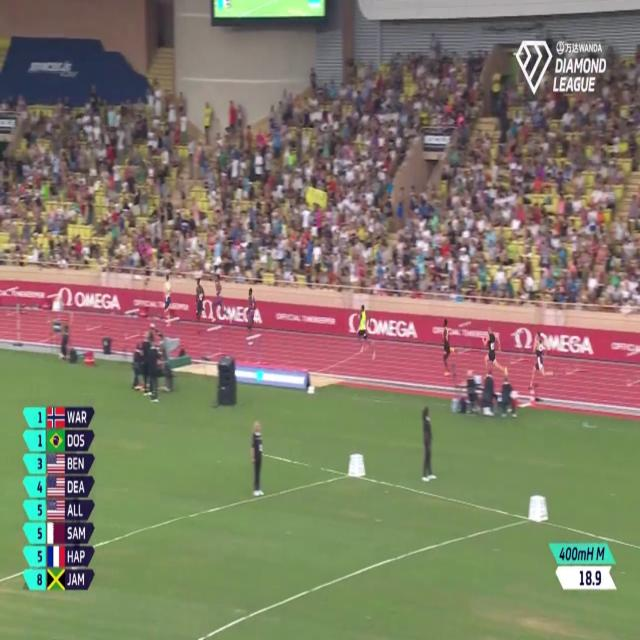athlete: (481, 322, 516, 384), (529, 331, 555, 394), (356, 298, 377, 360), (242, 286, 262, 346), (442, 309, 456, 390), (194, 274, 208, 339), (212, 272, 226, 334), (162, 270, 176, 329)
hurdle: (238, 326, 267, 367), (82, 295, 109, 337), (204, 319, 229, 363), (562, 336, 587, 379), (121, 303, 145, 345), (508, 322, 528, 370), (45, 279, 61, 331), (163, 310, 184, 349), (458, 314, 473, 350)
